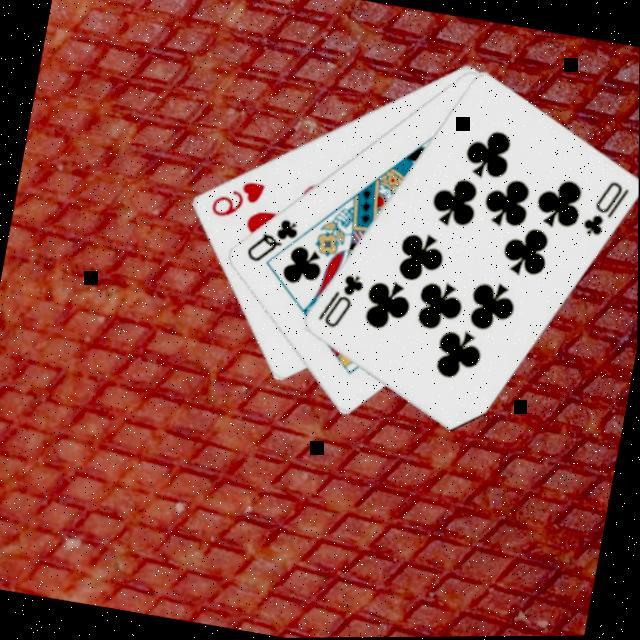10C: (576, 176, 632, 246), (312, 268, 366, 338)
9H: (205, 173, 268, 228)
QC: (240, 211, 302, 274)
